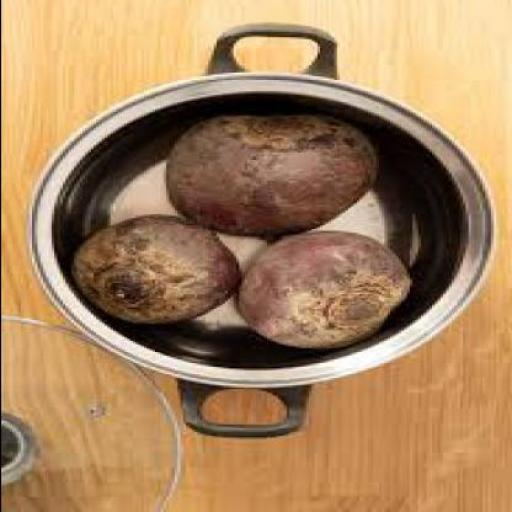biodegradable: (171, 115, 380, 238), (246, 232, 420, 350), (76, 217, 246, 328)
glass: (1, 321, 180, 511)
metal: (30, 74, 496, 391)
